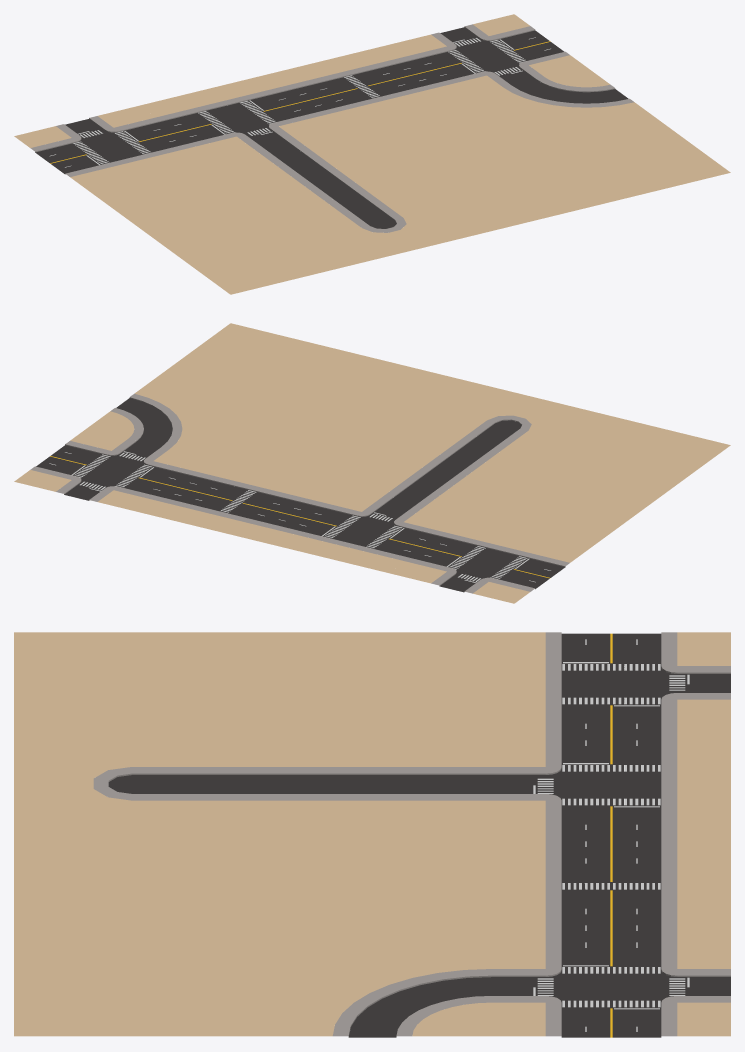
The model's file is road-zone-homes-outer.glb.
The picture shows the model from 3 angles, top to bottom: view 1: azimuth 30°, elevation 25°; view 2: azimuth 150°, elevation 25°; view 3: azimuth 270°, elevation 25°; orthographic projection. The views are drawn at different scales.
Parts seen in each view (by area): view 1: road-to-double-intersection.001, tile-mainroad-straight-crosswalk-nb.002, tile-road-end-nb.004, road-curved.003, road-double-intersection.001, road-to-double-intersection.002; view 2: road-to-double-intersection.001, tile-mainroad-straight-crosswalk-nb.002, tile-road-end-nb.004, road-curved.003, road-double-intersection.001, road-to-double-intersection.002; view 3: road-to-double-intersection.001, tile-mainroad-straight-crosswalk-nb.002, road-curved.003, tile-road-end-nb.004, road-double-intersection.001, road-to-double-intersection.002.
Part boxes in pixels (left/top/right/bottom): road-to-double-intersection.001: left=70, top=75, right=407, bottom=241; tile-mainroad-straight-crosswalk-nb.002: left=264, top=45, right=605, bottom=233; tile-road-end-nb.004: left=159, top=181, right=480, bottom=294; road-curved.003: left=462, top=67, right=730, bottom=202; road-double-intersection.001: left=389, top=14, right=585, bottom=97; road-to-double-intersection.002: left=14, top=106, right=194, bottom=176; road-to-double-intersection.001: left=264, top=437, right=658, bottom=572; tile-mainroad-straight-crosswalk-nb.002: left=139, top=354, right=480, bottom=542; tile-road-end-nb.004: left=409, top=384, right=730, bottom=497; road-curved.003: left=86, top=323, right=355, bottom=459; road-double-intersection.001: left=14, top=429, right=210, bottom=511; road-to-double-intersection.002: left=389, top=532, right=569, bottom=603; road-to-double-intersection.001: left=253, top=632, right=730, bottom=835; tile-mainroad-straight-crosswalk-nb.002: left=14, top=834, right=730, bottom=936; road-curved.003: left=14, top=935, right=491, bottom=1037; tile-road-end-nb.004: left=14, top=632, right=252, bottom=834; road-double-intersection.001: left=492, top=935, right=730, bottom=1037; road-to-double-intersection.002: left=545, top=632, right=730, bottom=734.
Size of the model in its own units: 120 by 0.2015 by 90.
